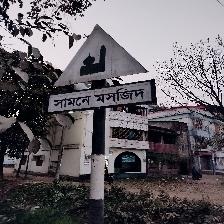Mosque in front: (49, 24, 153, 115)
